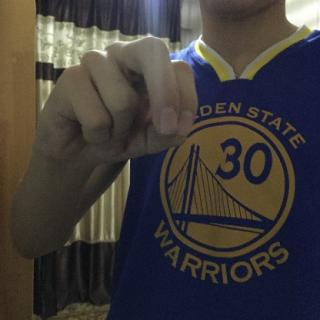QAAF: (32, 32, 204, 176)
